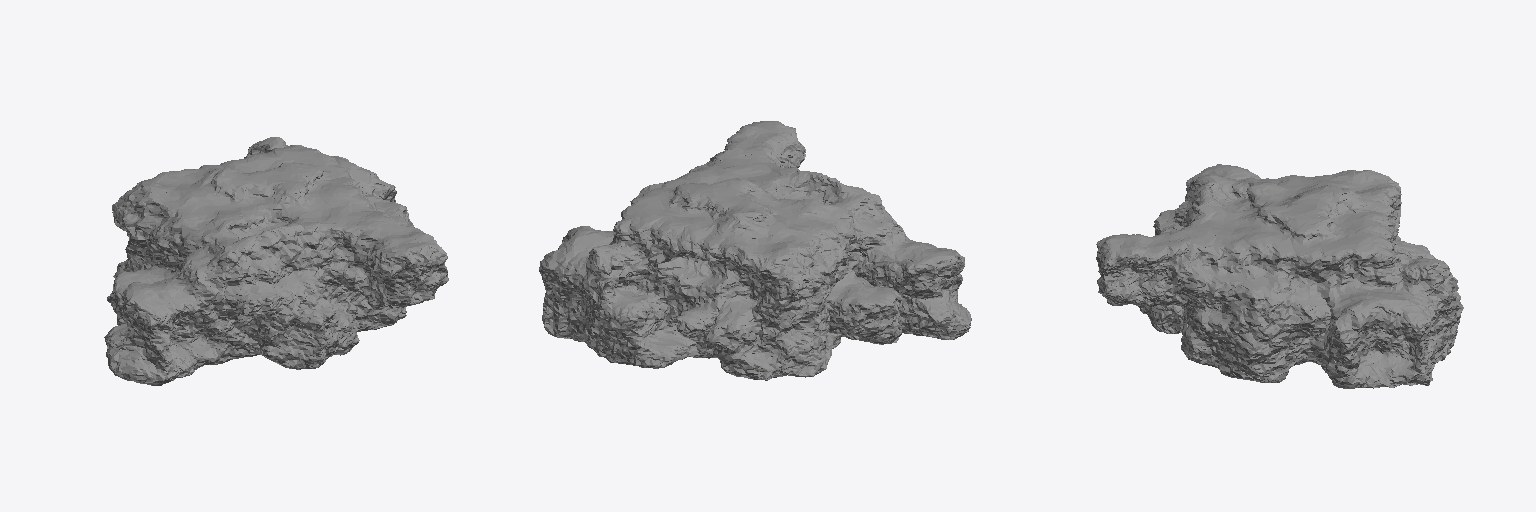
The model's file is rock4.obj.
3 renders of one model, left to right at view 1: azimuth 30°, elevation 25°; view 2: azimuth 150°, elevation 25°; view 3: azimuth 270°, elevation 25°, orthographic.
Parts seen in each view (by area): view 1: Rock; view 2: Rock; view 3: Rock.
Boxes of the visible parts, x1,y1,x2,y2 form: Rock: [104, 137, 448, 385]; Rock: [539, 121, 971, 380]; Rock: [1096, 164, 1463, 388].
Size of the model in its own units: 11017 by 3960 by 10129.